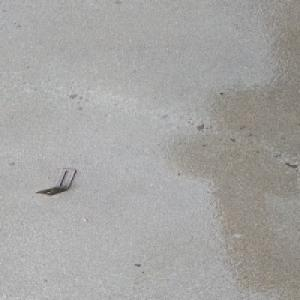MetalPart: (35, 167, 77, 196)
